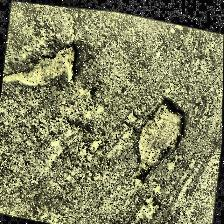pothole: (130, 86, 192, 192), (0, 26, 82, 105)
